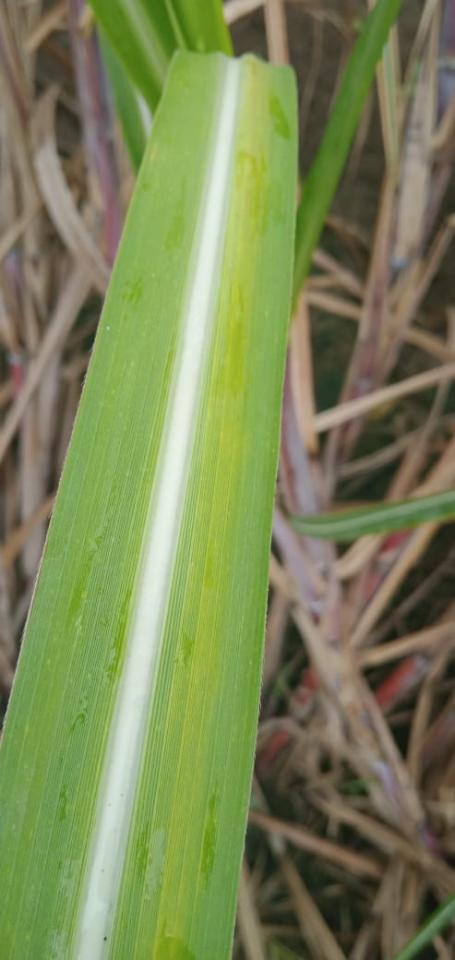Rust: (103, 936, 108, 942)
Yellow: (129, 49, 270, 959)
